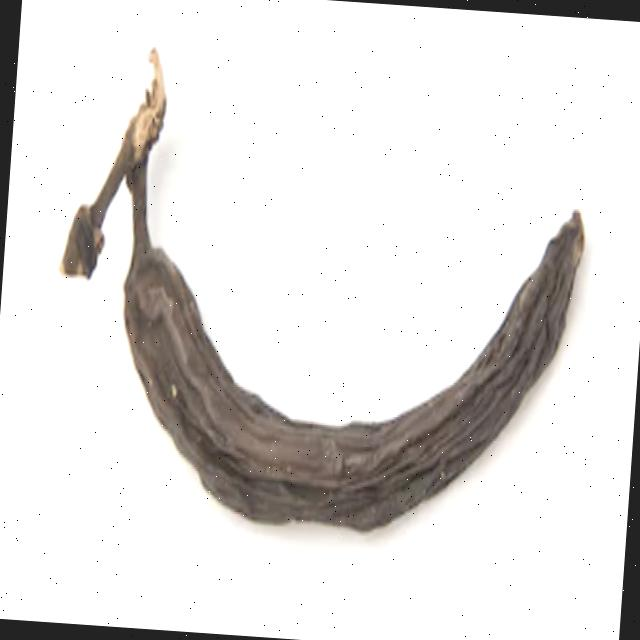rotten banana: (26, 0, 632, 630)
